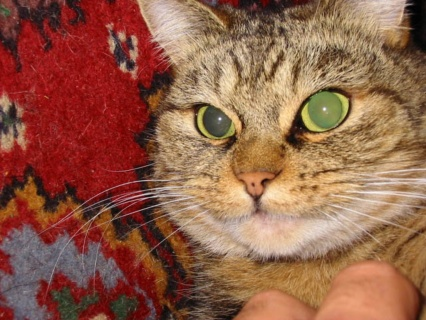Cat: (24, 0, 425, 319)
